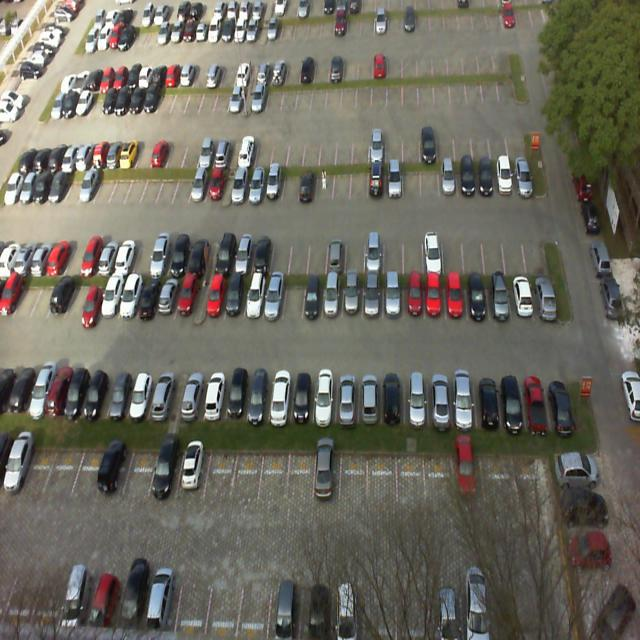space-empty: (123, 442, 157, 502), (43, 445, 79, 499), (71, 446, 106, 501), (231, 451, 264, 505), (204, 448, 238, 498), (259, 448, 291, 500), (21, 446, 55, 494), (288, 449, 314, 504), (483, 227, 507, 275), (443, 226, 466, 273), (130, 236, 156, 276), (505, 227, 527, 273), (525, 229, 549, 271), (282, 276, 302, 324), (155, 165, 177, 207), (172, 165, 194, 207), (139, 165, 162, 205), (404, 226, 424, 272), (382, 231, 404, 272), (287, 234, 309, 274), (464, 228, 484, 272), (345, 231, 364, 275), (268, 236, 290, 272), (307, 234, 327, 273), (283, 164, 300, 205), (333, 165, 350, 201), (403, 163, 421, 197), (422, 163, 440, 197), (316, 166, 332, 200), (351, 164, 367, 198)
space-occupied: (94, 445, 132, 502), (148, 444, 182, 500), (545, 370, 576, 426), (175, 445, 209, 495), (312, 451, 342, 507), (223, 370, 254, 424), (499, 373, 527, 431), (64, 367, 93, 421), (476, 372, 502, 429), (523, 371, 549, 428), (222, 272, 249, 326), (117, 271, 145, 323), (83, 371, 112, 421), (136, 267, 162, 321), (428, 375, 454, 429), (452, 374, 479, 426), (106, 371, 134, 421), (268, 373, 294, 425), (312, 372, 336, 428), (154, 274, 180, 324), (127, 370, 153, 420), (203, 370, 229, 420), (246, 372, 272, 422), (262, 270, 286, 324), (530, 270, 557, 318), (148, 374, 175, 422), (359, 371, 382, 426), (174, 272, 198, 324), (405, 374, 429, 426), (101, 270, 125, 320), (241, 275, 265, 325), (335, 373, 359, 423), (290, 372, 313, 424), (382, 371, 405, 423), (486, 273, 511, 320), (181, 373, 206, 419), (205, 273, 225, 327), (113, 238, 140, 276), (303, 276, 324, 324), (167, 238, 193, 276), (467, 275, 488, 322), (148, 237, 172, 278), (509, 276, 531, 320), (188, 164, 211, 206), (322, 277, 343, 323), (444, 277, 467, 319), (425, 229, 445, 276), (188, 239, 212, 278), (511, 156, 534, 196), (363, 276, 383, 322), (404, 274, 424, 320), (426, 276, 446, 322), (204, 166, 226, 206), (231, 164, 252, 205), (229, 238, 251, 277), (251, 235, 273, 273), (384, 276, 402, 322), (213, 239, 235, 275), (345, 275, 362, 321), (324, 235, 344, 273), (364, 235, 383, 273), (458, 162, 478, 198), (478, 158, 496, 198), (299, 166, 317, 205), (250, 166, 268, 204), (368, 162, 386, 200), (494, 160, 514, 194), (267, 166, 283, 207), (388, 162, 404, 200), (440, 162, 458, 195)
